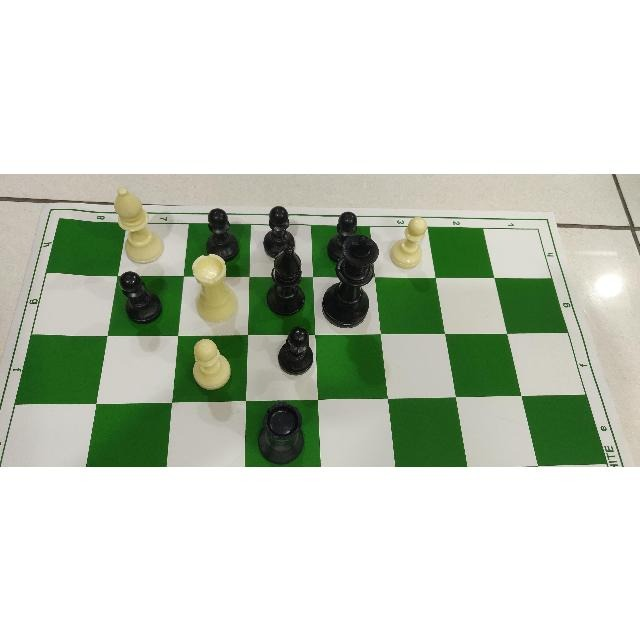black-bishop: (264, 240, 308, 317), (265, 240, 307, 317)
black-king: (320, 233, 379, 327)
black-pawn: (115, 270, 164, 324), (202, 205, 242, 260), (274, 324, 313, 377), (326, 208, 362, 263), (276, 324, 314, 375), (262, 203, 298, 255)
black-rook: (255, 399, 305, 463), (256, 401, 306, 463)
white-bishop: (112, 184, 164, 264), (114, 184, 164, 264)
white-pawn: (389, 213, 437, 269), (191, 336, 235, 394), (191, 336, 235, 393), (390, 215, 428, 269)
white-rook: (188, 253, 240, 323), (189, 253, 239, 323)
